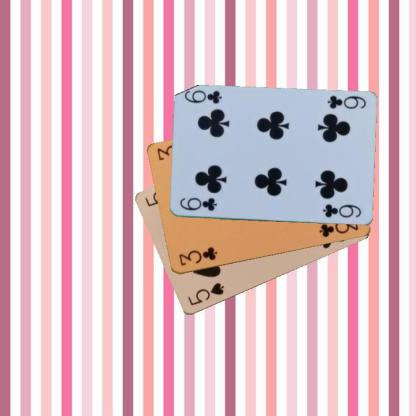3c: (176, 245, 218, 268)
5s: (185, 280, 225, 308)
6c: (177, 195, 218, 213), (324, 93, 367, 110)
